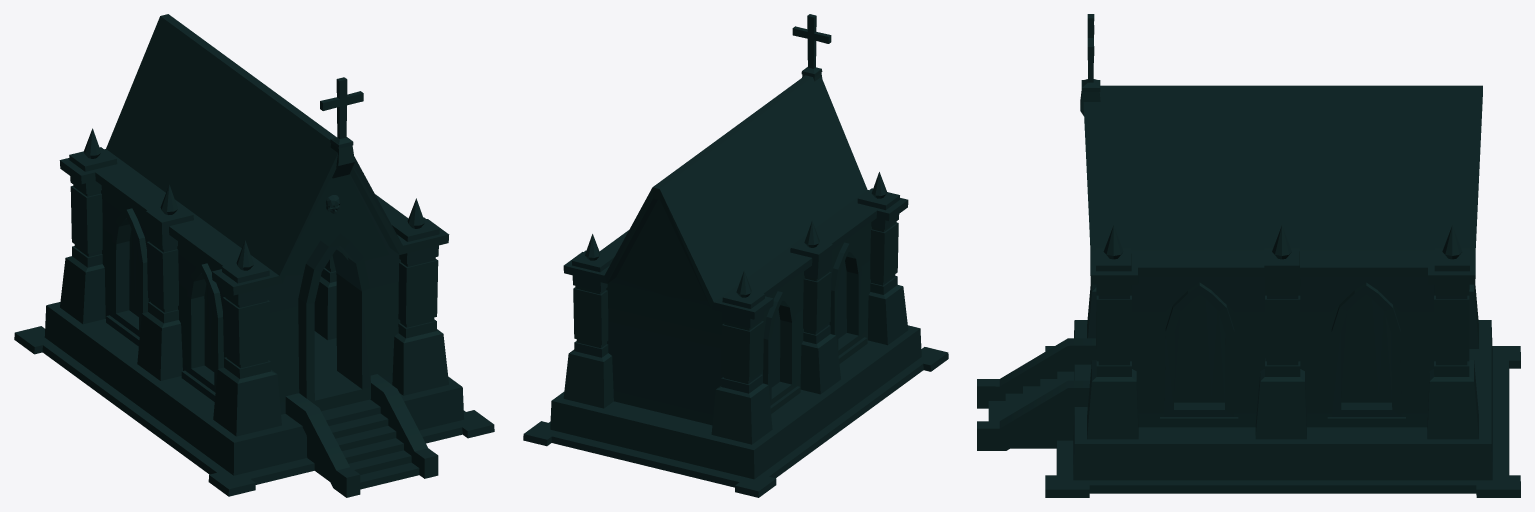
The model's file is crypt_stone_0_lev1.glb.
3 renders of one model, left to right at view 1: azimuth 30°, elevation 25°; view 2: azimuth 150°, elevation 25°; view 3: azimuth 270°, elevation 25°, orthographic. The views are drawn at different scales.
Visible parts, largest first — view 1: crypt_stone_0_lev1; view 2: crypt_stone_0_lev1; view 3: crypt_stone_0_lev1.
Boxes of the visible parts, x1,y1,x2,y2 form: crypt_stone_0_lev1: (14, 14, 494, 497); crypt_stone_0_lev1: (523, 14, 948, 497); crypt_stone_0_lev1: (977, 14, 1520, 497).
Size of the model in its own units: 3.16 by 4.21 by 5.05.
